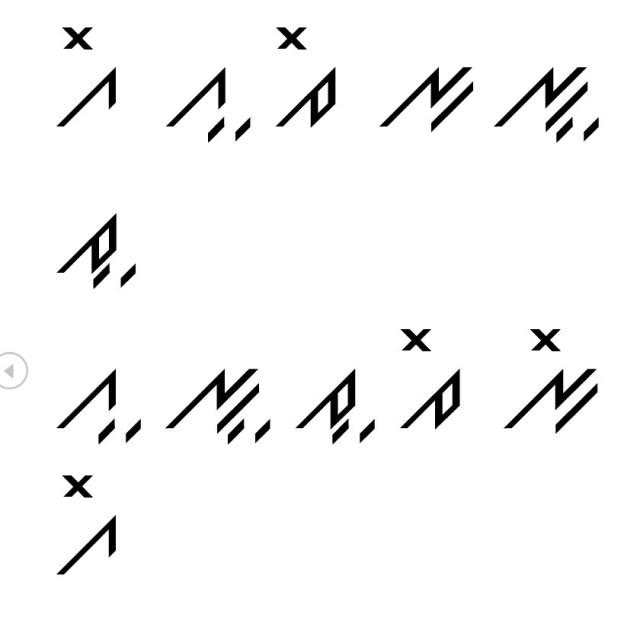gah: (159, 67, 256, 148), (51, 366, 144, 450)
go: (40, 468, 132, 583), (44, 21, 134, 131)
nga: (369, 60, 482, 144)
ngah: (160, 352, 276, 446), (493, 63, 609, 147)
ngo: (501, 318, 605, 444)
tah: (44, 201, 154, 300), (294, 358, 379, 444)
to: (392, 320, 471, 440), (270, 23, 346, 132)
